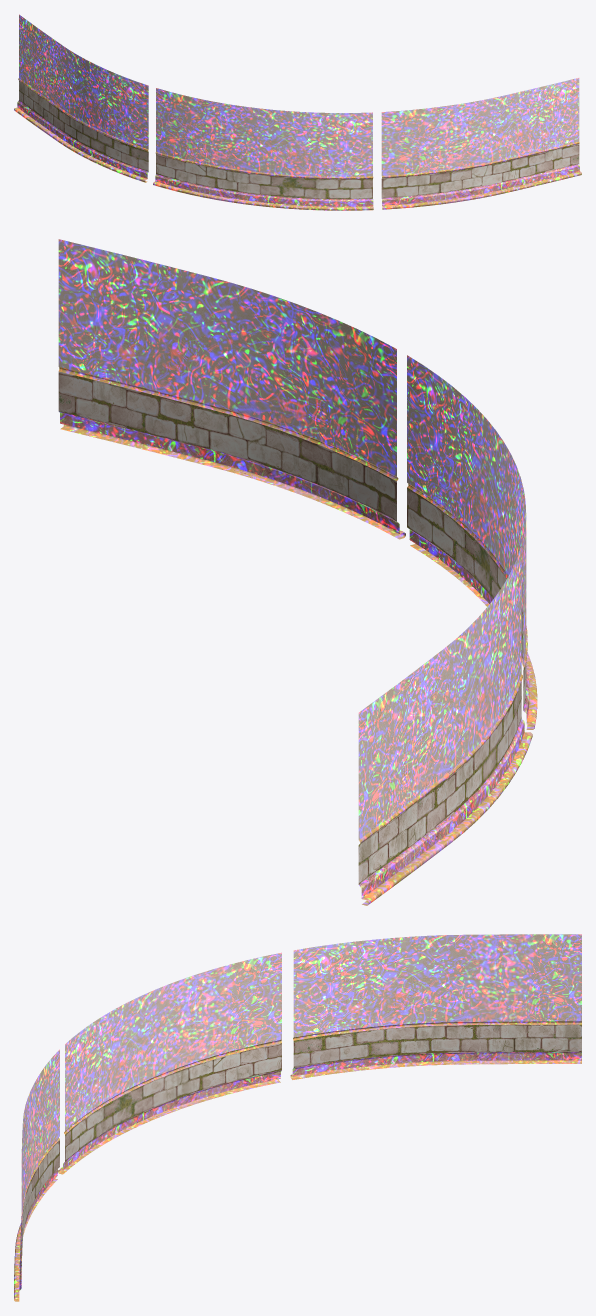
Rendered from wall_corner_large_SM.fbx.
The picture shows the model from 3 angles, top to bottom: view 1: azimuth 30°, elevation 25°; view 2: azimuth 150°, elevation 25°; view 3: azimuth 270°, elevation 25°; orthographic projection. The views are drawn at different scales.
Visible parts, largest first — view 1: wall_corner_large_SM_LOD0; view 2: wall_corner_large_SM_LOD0; view 3: wall_corner_large_SM_LOD0.
Part boxes in pixels (left/top/right/bottom): wall_corner_large_SM_LOD0: left=14, top=14, right=581, bottom=210; wall_corner_large_SM_LOD0: left=58, top=239, right=537, bottom=905; wall_corner_large_SM_LOD0: left=14, top=934, right=581, bottom=1301.
Size of the model in its own units: 2045 by 2045 by 519.
Materials: 4 (4 with a texture image).
